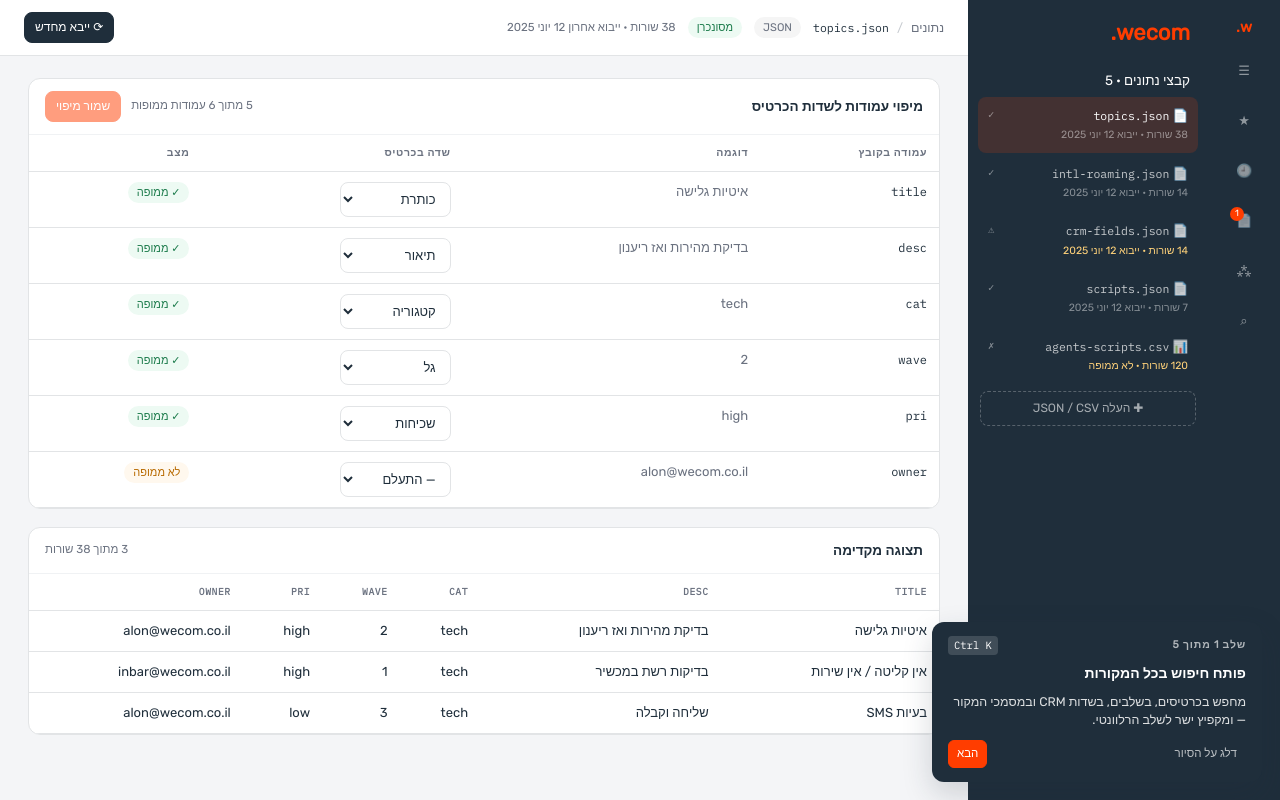
Test: <DataPage> › re-imports and links to the suggestions the run produced
Check: the table with test id "mapping-table" is shown, box [29, 135, 939, 508]
Click the button "⟳ ייבא מחדש" at (69, 28), box [24, 12, 114, 43]
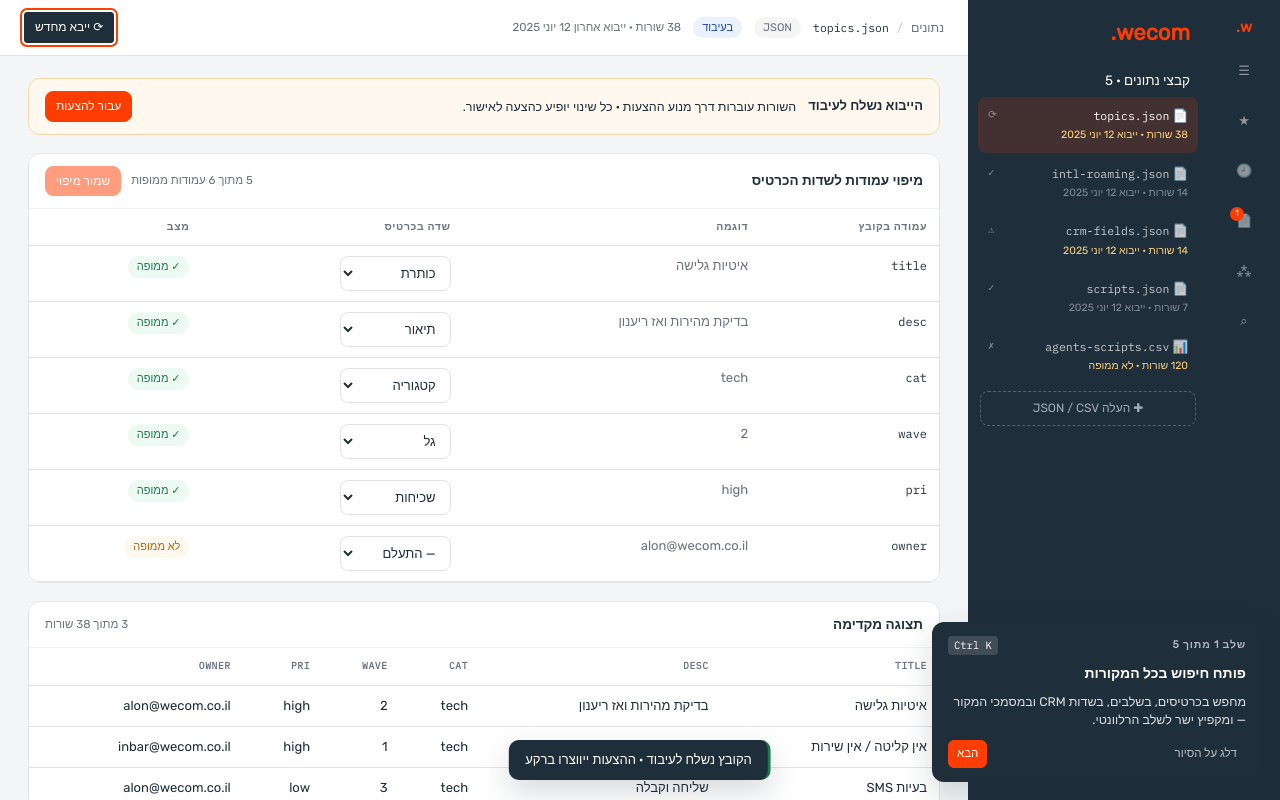
Check: the text "הייבוא נשלח לעיבוד" is shown, box [808, 96, 923, 116]
Click the button "עבור להצעות" at (89, 106), box [45, 91, 132, 122]
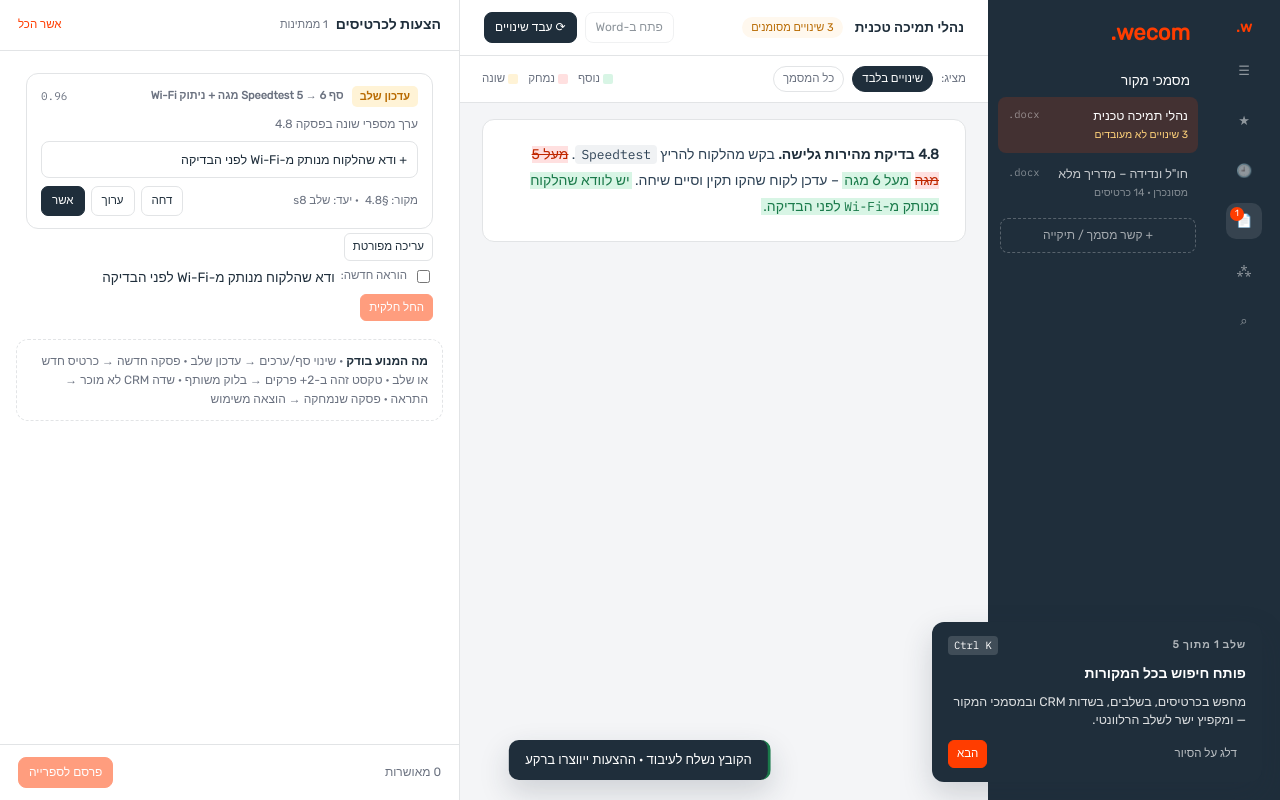
Check: the text "הצעות לכרטיסים" is shown, box [336, 14, 441, 36]
